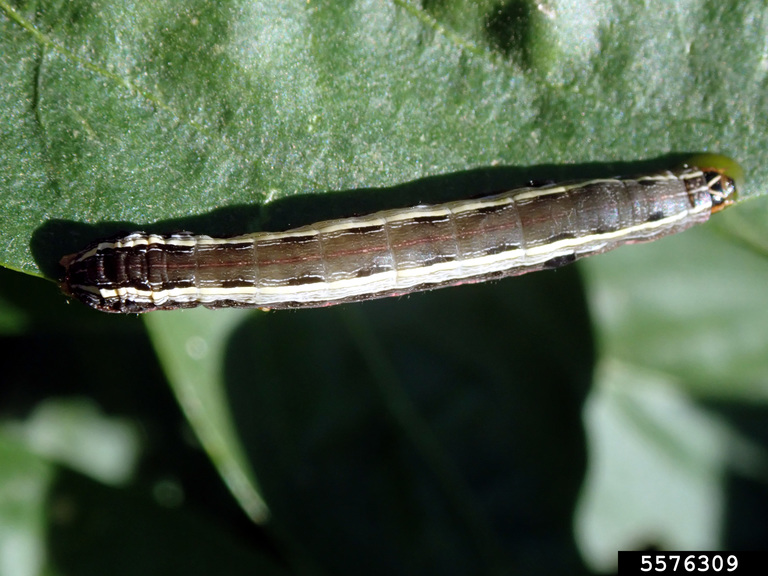Armyworm: (63, 157, 751, 345)
